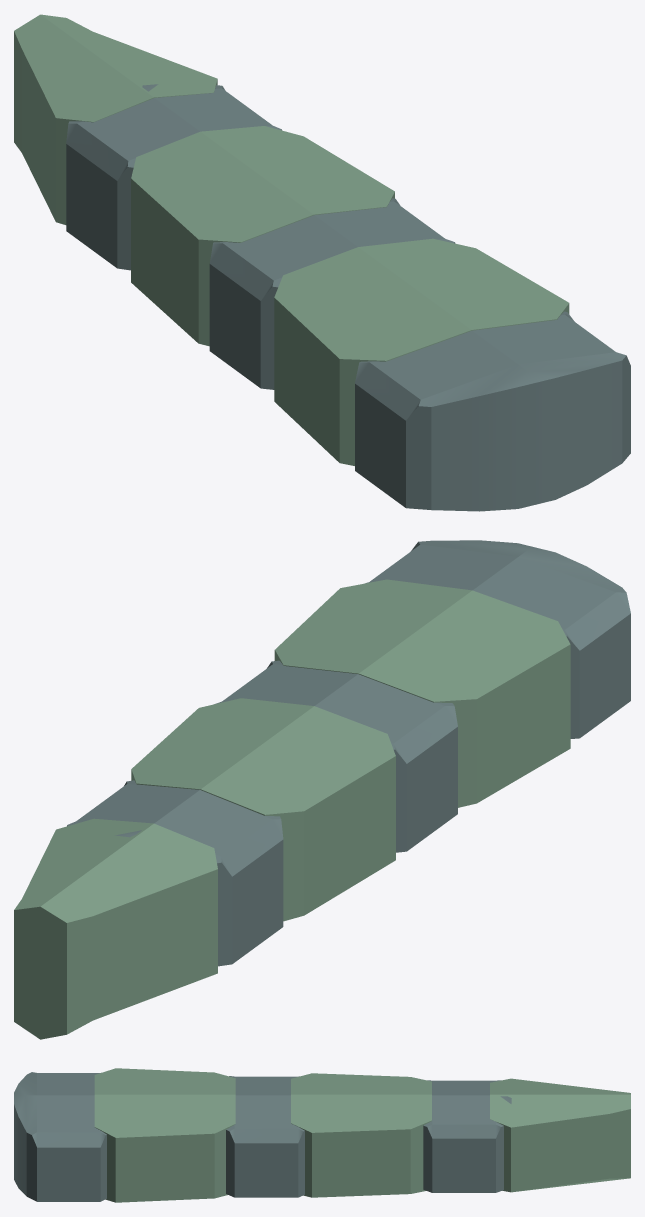
The model's file is smSnekTail.fbx.
3 renders of one model, top to bottom at view 1: azimuth 30°, elevation 25°; view 2: azimuth 150°, elevation 25°; view 3: azimuth 270°, elevation 25°, orthographic. The views are drawn at different scales.
Parts seen in each view (by area): view 1: smSnekTail; view 2: smSnekTail; view 3: smSnekTail.
Boxes of the visible parts, x1,y1,x2,y2 form: smSnekTail: (14, 14, 630, 511); smSnekTail: (14, 540, 630, 1039); smSnekTail: (14, 1068, 630, 1202).
Bounding box in the file's own units: 21.04 × 11.61 × 78.66.
